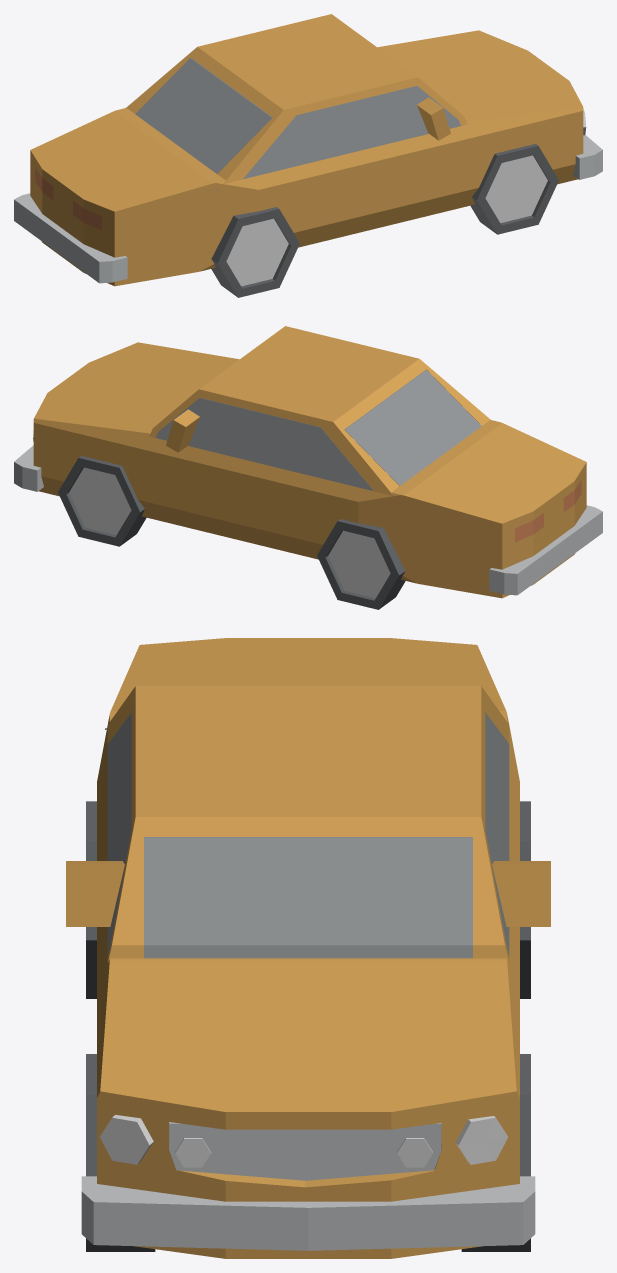
File: car7.glb
3 views of the same model, one above another, from view 1: azimuth 30°, elevation 25°; view 2: azimuth 150°, elevation 25°; view 3: azimuth 270°, elevation 25° (orthographic). The views are drawn at different scales.
Visible parts, largest first — view 1: Mesh_Mesh_head_geo.001_lambert2SG.001; view 2: Mesh_Mesh_head_geo.001_lambert2SG.001; view 3: Mesh_Mesh_head_geo.001_lambert2SG.001.
Boxes of the visible parts, left/top/right/bottom form: Mesh_Mesh_head_geo.001_lambert2SG.001: left=14, top=14, right=602, bottom=297; Mesh_Mesh_head_geo.001_lambert2SG.001: left=14, top=326, right=602, bottom=609; Mesh_Mesh_head_geo.001_lambert2SG.001: left=66, top=638, right=550, bottom=1258.
Size of the model in its own units: 9.49 by 3 by 4.
